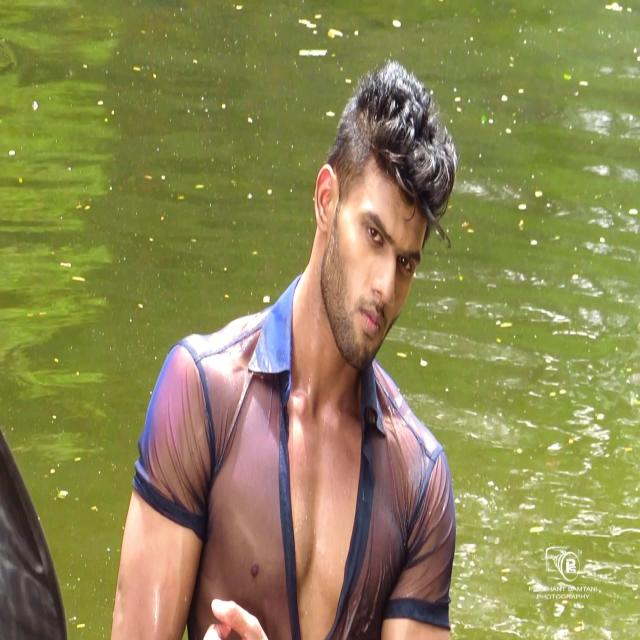mobile_phonerotation: (109, 59, 460, 637)
